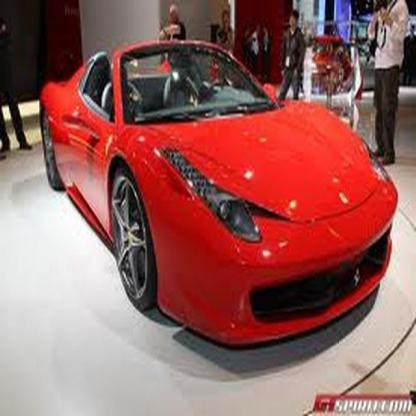Vehicle: (31, 36, 406, 362)
